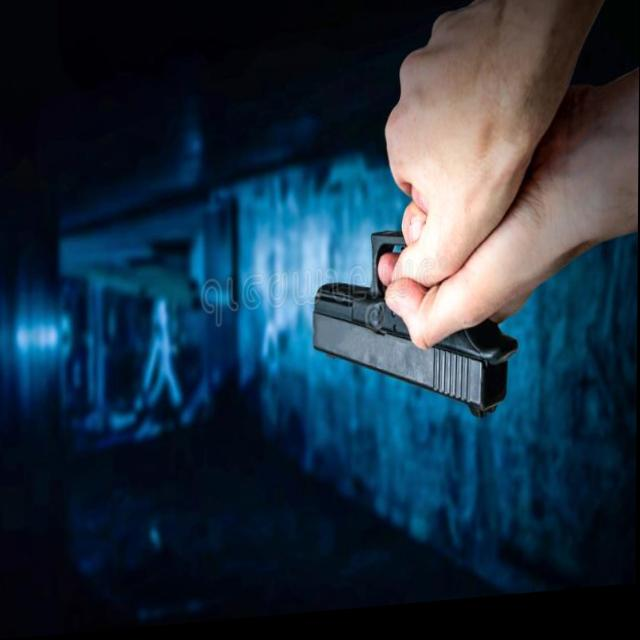handgun: (308, 220, 534, 443)
